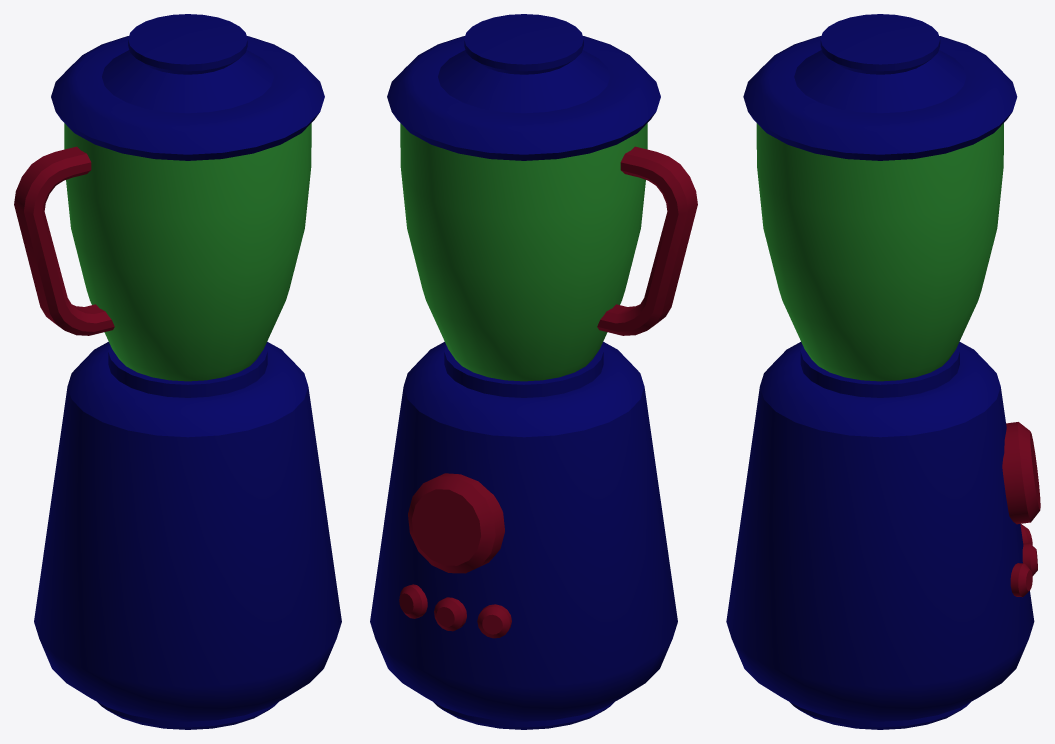
Rendered from Squeezer.FBX.
3 views of the same model, side by side, from view 1: azimuth 30°, elevation 25°; view 2: azimuth 150°, elevation 25°; view 3: azimuth 270°, elevation 25° (orthographic).
Parts seen in each view (by area): view 1: Squeezer; view 2: Squeezer; view 3: Squeezer.
Boxes of the visible parts, box(x1,y1,x2,y2) form: Squeezer: box(14, 14, 341, 729); Squeezer: box(370, 14, 697, 729); Squeezer: box(726, 14, 1040, 729).
Bounding box in the file's own units: 331 × 298 × 685.
